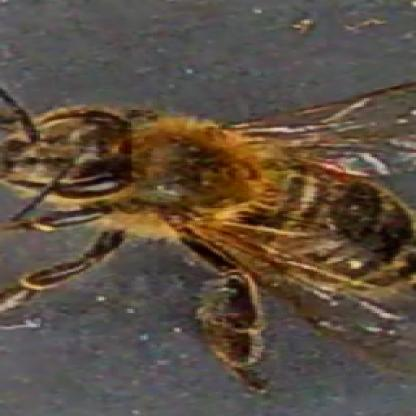bee: (5, 94, 416, 344)
